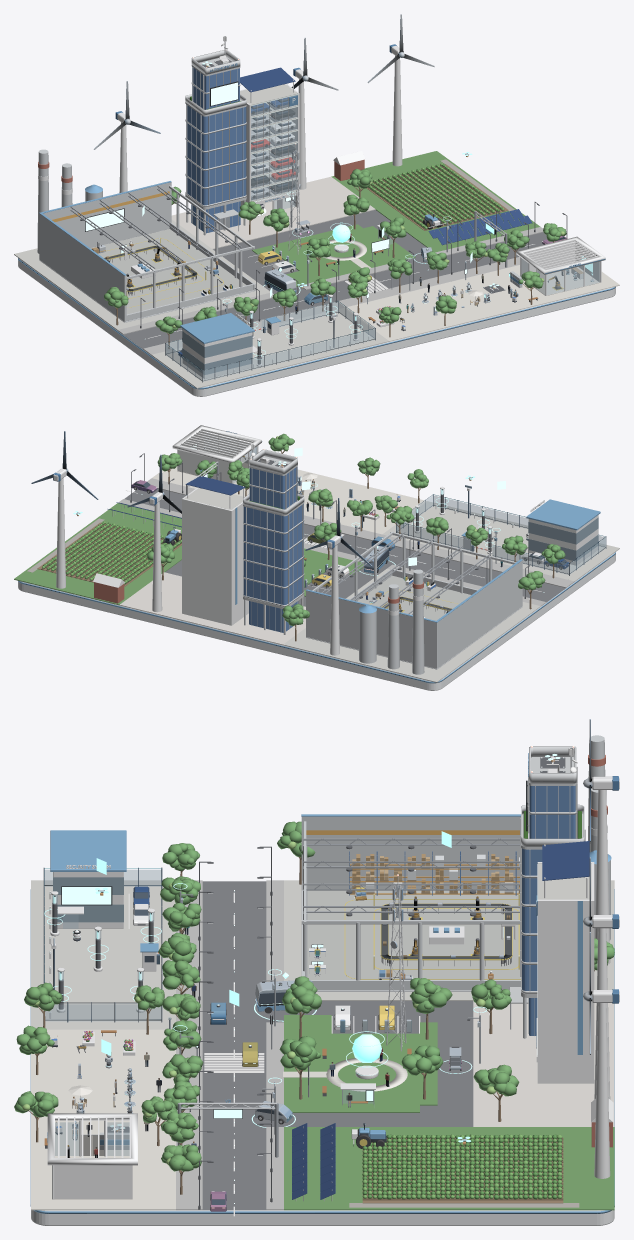
Rendered from smart_autonomous.glb.
The picture shows the model from 3 angles, top to bottom: view 1: azimuth 30°, elevation 25°; view 2: azimuth 150°, elevation 25°; view 3: azimuth 270°, elevation 25°; orthographic projection. The views are drawn at different scales.
Visible parts, largest first — view 1: bake-static_site, bake-static_building, vbake-static_site, bake-hot-security-systems, glass-static_site-glass, glass-hot-security-systems-glass, vbake-hot-security-systems, vbake-hot-vehicles, glass-static_building-glass, vbake-static_building, vbake-hot-industrial-robot, vbake-hot-service-robot (+3 smaller); view 2: bake-static_site, bake-static_building, vbake-static_site, bake-hot-security-systems, glass-hot-security-systems-glass, vbake-hot-security-systems, vbake-static_building, vbake-hot-vehicles, shuttle, bake-hot-vehicles; view 3: bake-static_site, vbake-static_site, bake-static_building, bake-hot-security-systems, vbake-static_building, vbake-hot-vehicles, glass-hot-security-systems-glass, vbake-hot-security-systems, vbake-hot-industrial-robot, bake-hot-industrial-robot, bake-hot-vehicles, glass-static_building-glass (+4 smaller).
Boxes of the visible parts, bbox=[...] form: bake-static_site: bbox=[14, 46, 619, 396]; bake-static_building: bbox=[39, 181, 605, 322]; vbake-static_site: bbox=[104, 36, 567, 348]; bake-hot-security-systems: bbox=[178, 313, 280, 378]; glass-static_site-glass: bbox=[251, 95, 393, 244]; glass-hot-security-systems-glass: bbox=[166, 297, 375, 381]; vbake-hot-security-systems: bbox=[165, 294, 375, 382]; vbake-hot-vehicles: bbox=[222, 145, 506, 313]; glass-static_building-glass: bbox=[521, 258, 599, 294]; vbake-static_building: bbox=[71, 185, 605, 307]; vbake-hot-industrial-robot: bbox=[104, 237, 206, 298]; vbake-hot-service-robot: bbox=[366, 261, 594, 315]; bake-static_site: bbox=[14, 449, 619, 690]; bake-static_building: bbox=[172, 425, 522, 669]; vbake-static_site: bbox=[42, 433, 565, 641]; bake-hot-security-systems: bbox=[461, 499, 600, 569]; glass-hot-security-systems-glass: bbox=[396, 489, 605, 574]; vbake-hot-security-systems: bbox=[396, 486, 606, 575]; vbake-static_building: bbox=[218, 431, 487, 605]; vbake-hot-vehicles: bbox=[188, 461, 497, 588]; shuttle: bbox=[359, 545, 395, 575]; bake-hot-vehicles: bbox=[186, 461, 349, 587]; bake-static_site: bbox=[30, 735, 619, 1225]; vbake-static_site: bbox=[14, 747, 618, 1216]; bake-static_building: bbox=[47, 814, 520, 1199]; bake-hot-security-systems: bbox=[50, 830, 158, 971]; vbake-static_building: bbox=[47, 838, 520, 1199]; vbake-hot-vehicles: bbox=[179, 876, 480, 1134]; glass-hot-security-systems-glass: bbox=[45, 870, 160, 1020]; vbake-hot-security-systems: bbox=[43, 865, 162, 1022]; vbake-hot-industrial-robot: bbox=[373, 893, 519, 969]; bake-hot-industrial-robot: bbox=[381, 904, 511, 958]; bake-hot-vehicles: bbox=[177, 1005, 394, 1157]; glass-static_building-glass: bbox=[55, 1122, 129, 1155].
Size of the model in its own units: 91.08 by 37.86 by 68.52.
